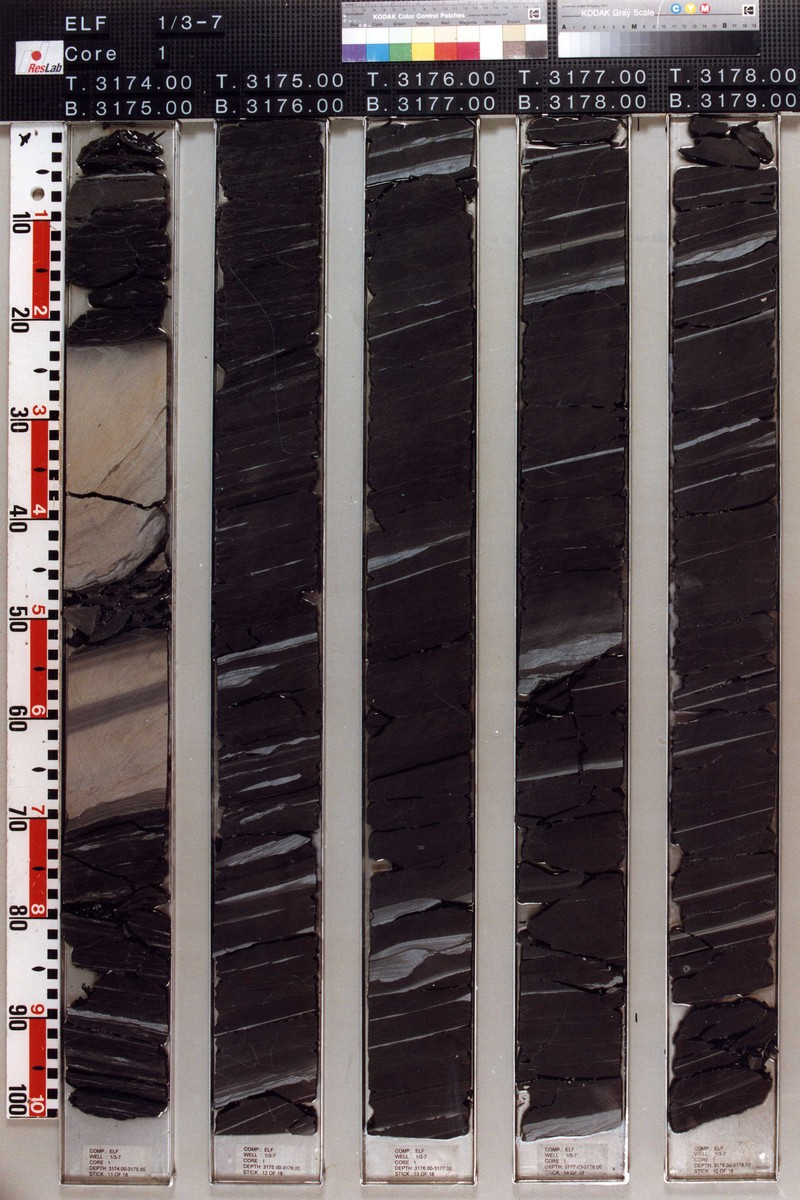core: (360, 124, 479, 1141), (209, 119, 325, 1141), (666, 120, 781, 1136), (520, 125, 633, 1142), (66, 121, 174, 1124)
